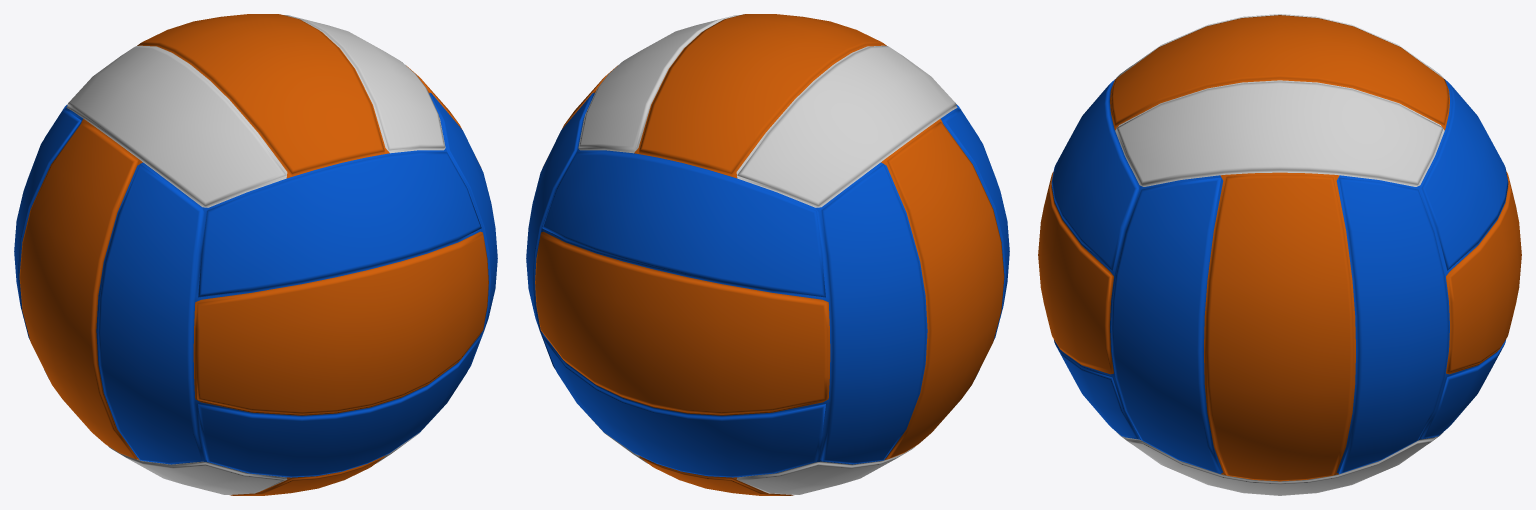
Rendered from VolleyBall.fbx.
3 renders of one model, left to right at view 1: azimuth 30°, elevation 25°; view 2: azimuth 150°, elevation 25°; view 3: azimuth 270°, elevation 25°, orthographic.
Parts seen in each view (by area): view 1: Cube_2; view 2: Cube_2; view 3: Cube_2.
Boxes of the visible parts, x1,y1,x2,y2 form: Cube_2: (14,14,497,495); Cube_2: (526,14,1009,495); Cube_2: (1038,14,1521,495).
Bounding box in the file's own units: 2.6 × 2.6 × 2.6.
